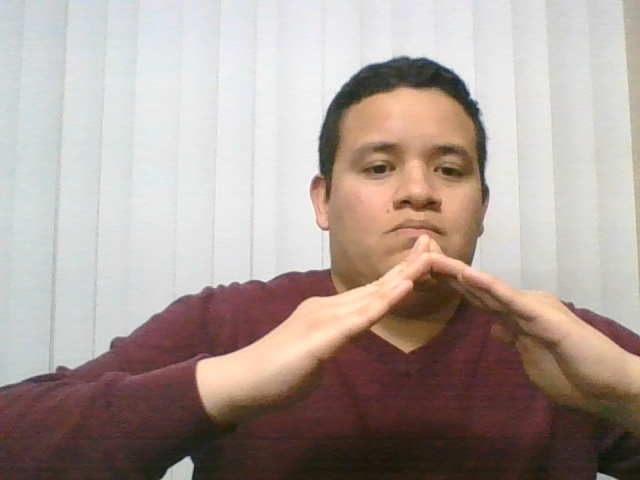House: (135, 223, 632, 462)
